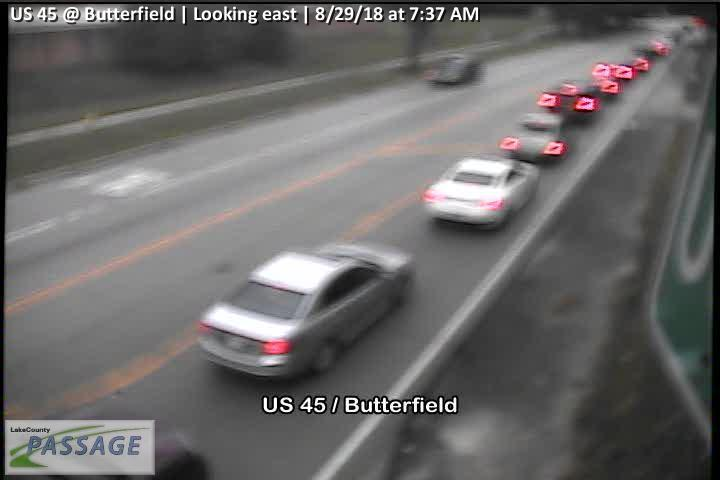SUV: (544, 77, 608, 121), (422, 51, 481, 85)
Sedan: (194, 241, 418, 380), (419, 156, 543, 229), (501, 111, 575, 163)
